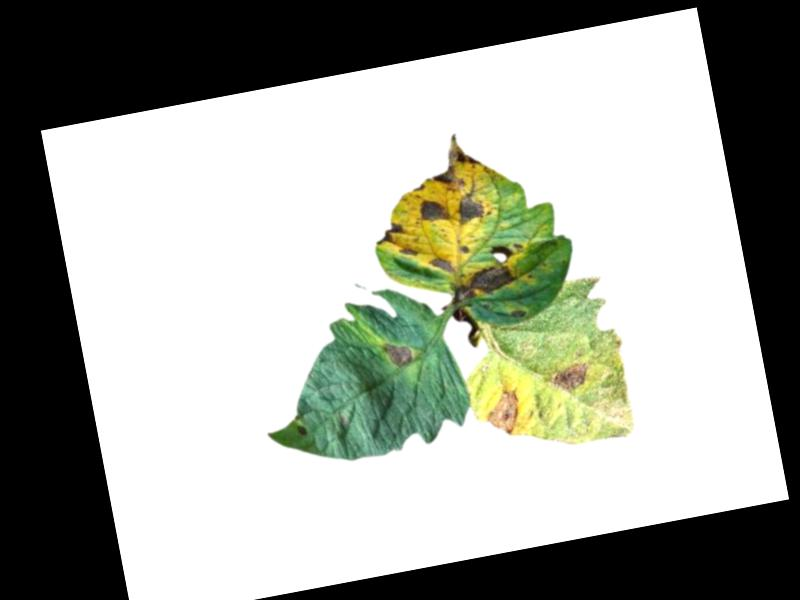Early_blight: (423, 129, 487, 193), (448, 259, 520, 306), (481, 386, 525, 440), (547, 359, 595, 396), (452, 189, 494, 227), (379, 339, 414, 373), (415, 195, 450, 227), (371, 221, 406, 249), (430, 253, 456, 278), (398, 245, 418, 262), (293, 422, 309, 439), (458, 244, 471, 257)
